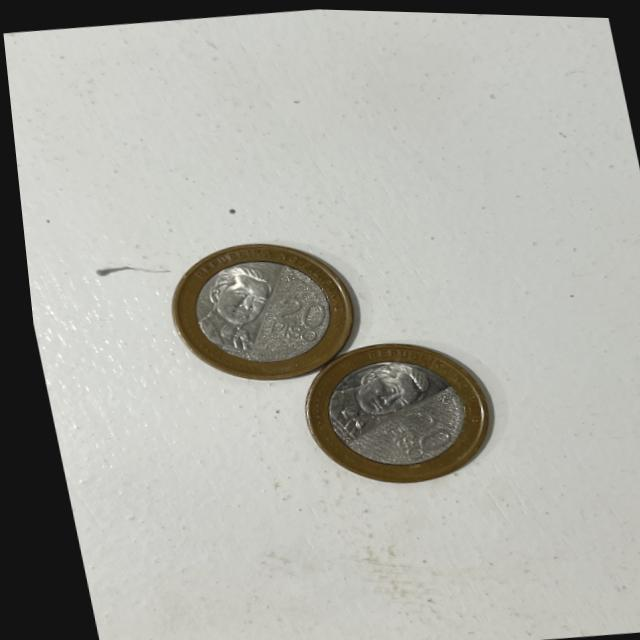20_New_Front: (368, 400, 449, 464), (254, 284, 323, 348)
